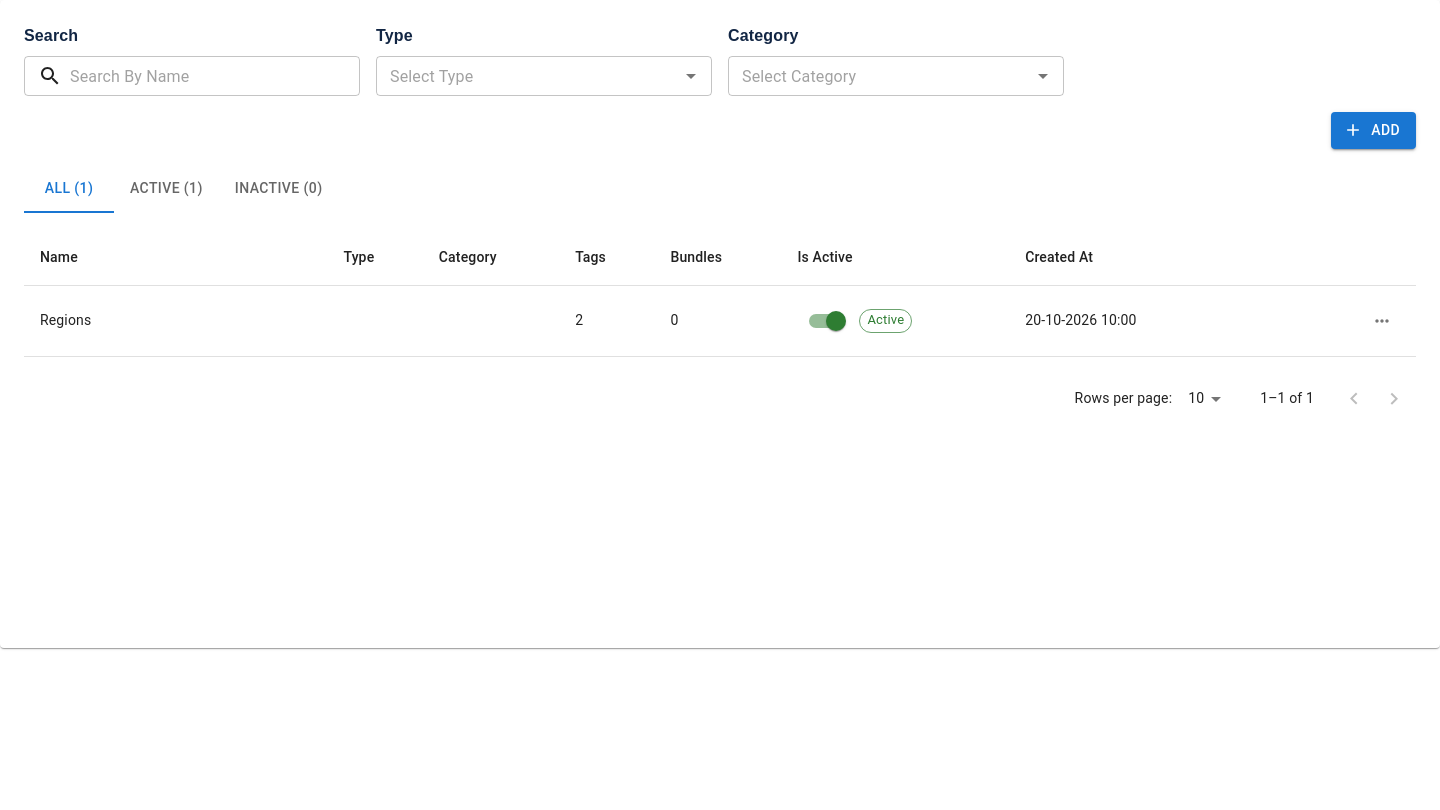
Test: Groups list › cancelling the status confirmation changes nothing
Expected: the text "Regions" is shown, top-left (24, 285), bottom-right (328, 356)
Click the checkbox named "status of Regions" at coordinates (836, 320), box top-left (826, 310), bottom-right (846, 330)
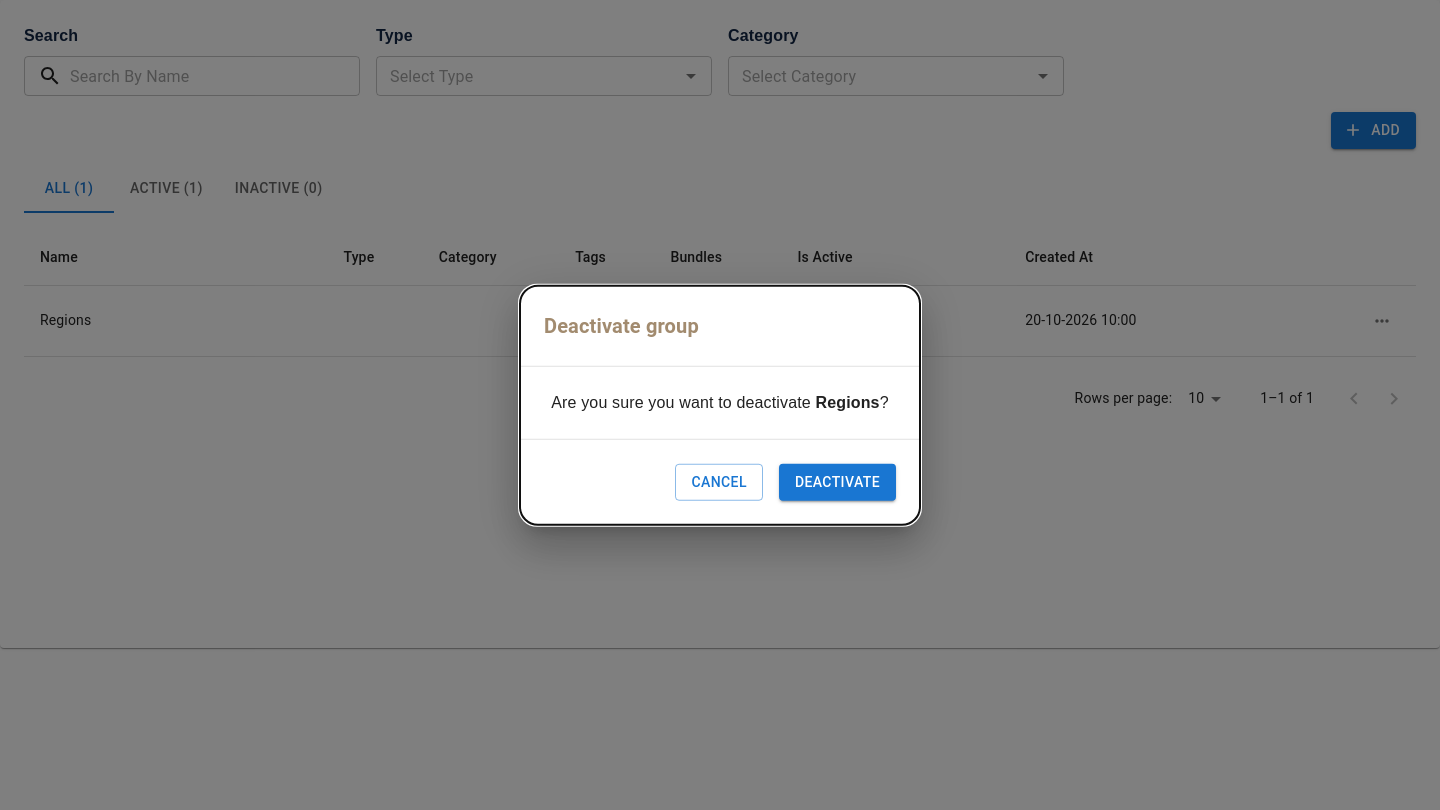
Click the button "Cancel" at coordinates (719, 482), box top-left (675, 464), bottom-right (763, 500)
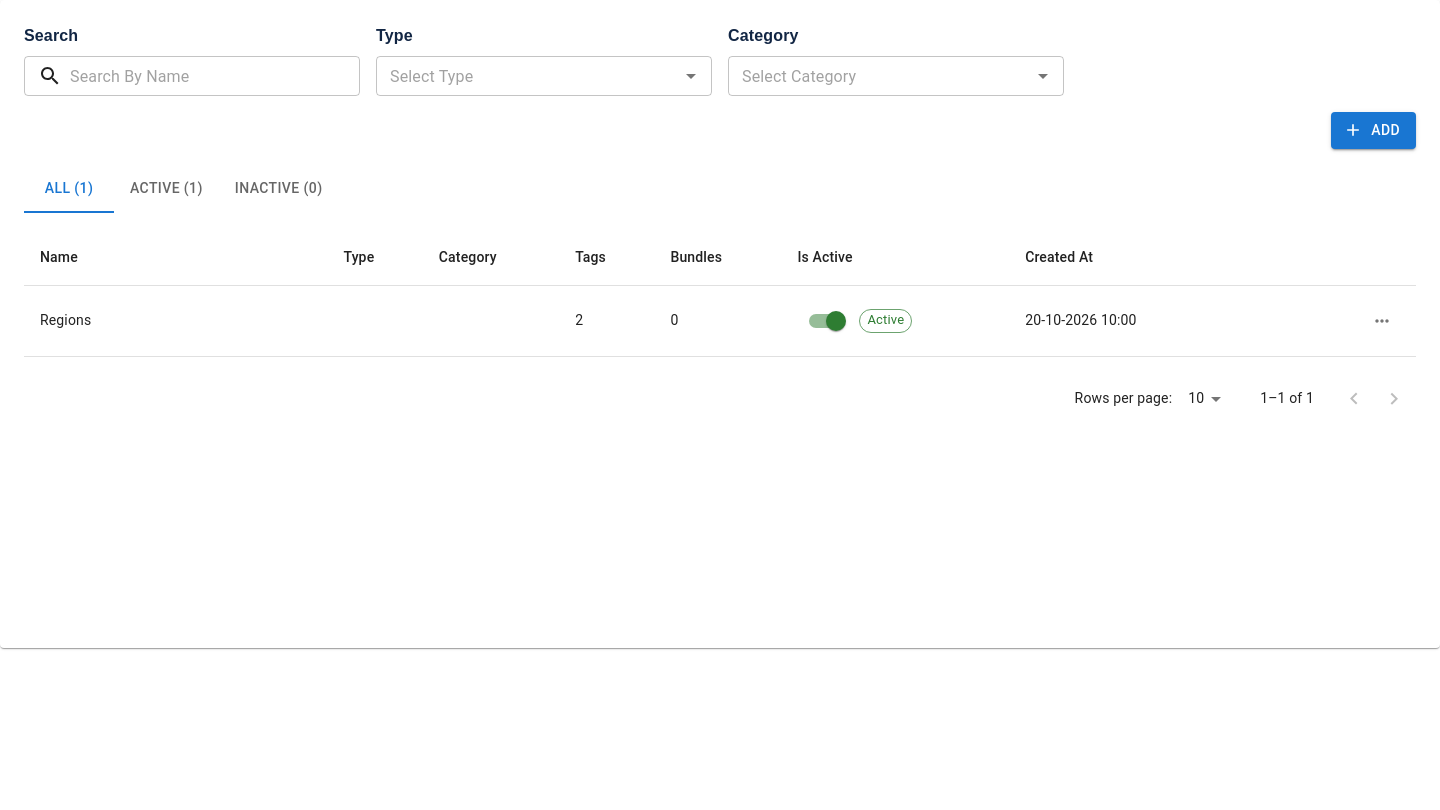
Expected: the checkbox named "status of Regions" is checked, top-left (826, 310), bottom-right (846, 330)
Expected: the text "Are you sure you want to deactivate" is gone
